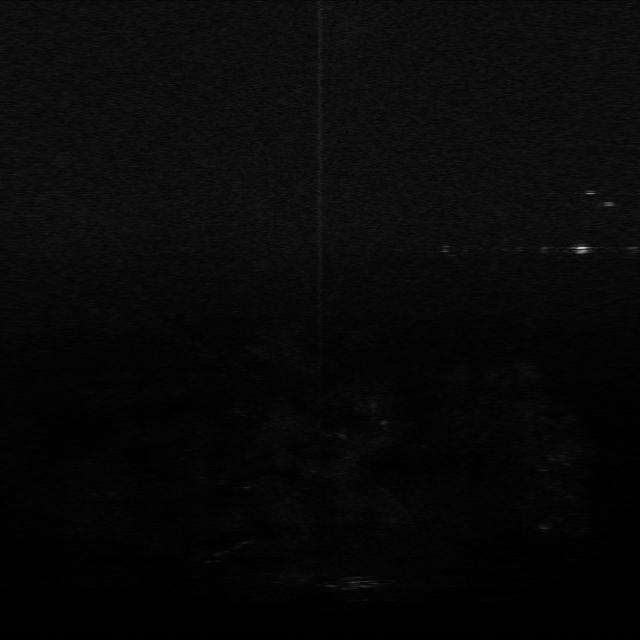rov: (570, 240, 596, 258)
